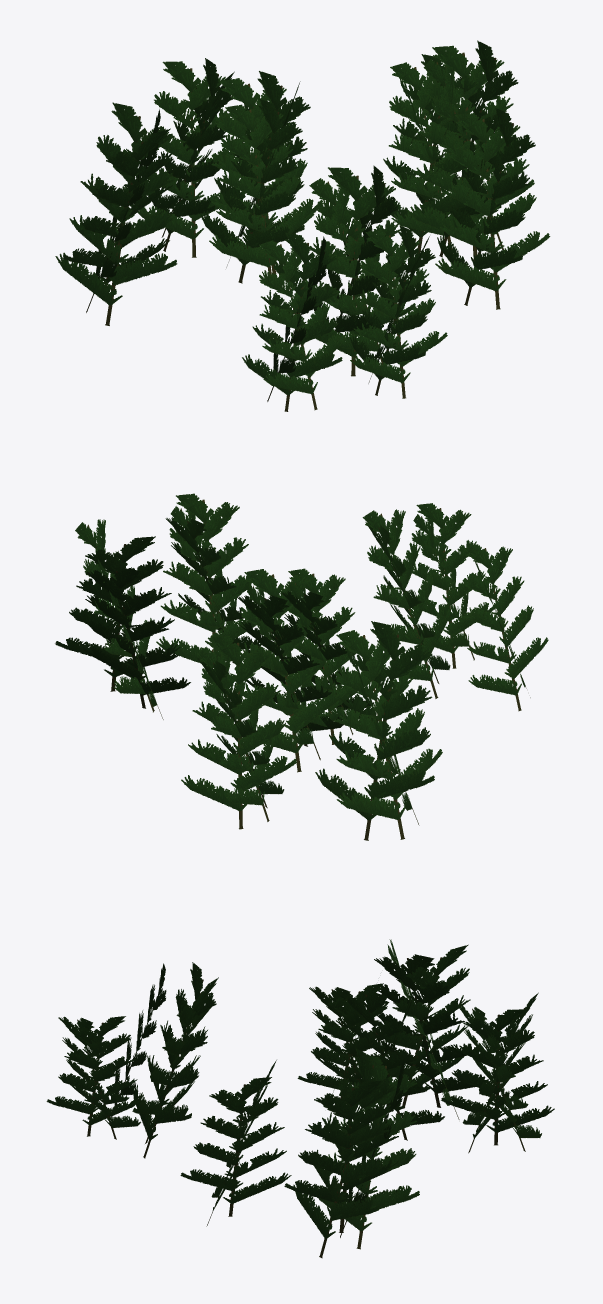
Rendered from SM_Art_Veg_Gorse_2.gltf.
3 views of the same model, one above another, from view 1: azimuth 30°, elevation 25°; view 2: azimuth 150°, elevation 25°; view 3: azimuth 270°, elevation 25° (orthographic). The views are drawn at different scales.
Parts seen in each view (by area): view 1: SM_Art_Veg_Gorse_2; view 2: SM_Art_Veg_Gorse_2; view 3: SM_Art_Veg_Gorse_2.
Boxes of the visible parts, bbox=[...] form: SM_Art_Veg_Gorse_2: bbox=[55, 40, 550, 411]; SM_Art_Veg_Gorse_2: bbox=[55, 493, 548, 840]; SM_Art_Veg_Gorse_2: bbox=[46, 939, 554, 1258].
Size of the model in its own units: 2.47 by 0.9905 by 2.59.
Materials: 1 (1 with a texture image).
